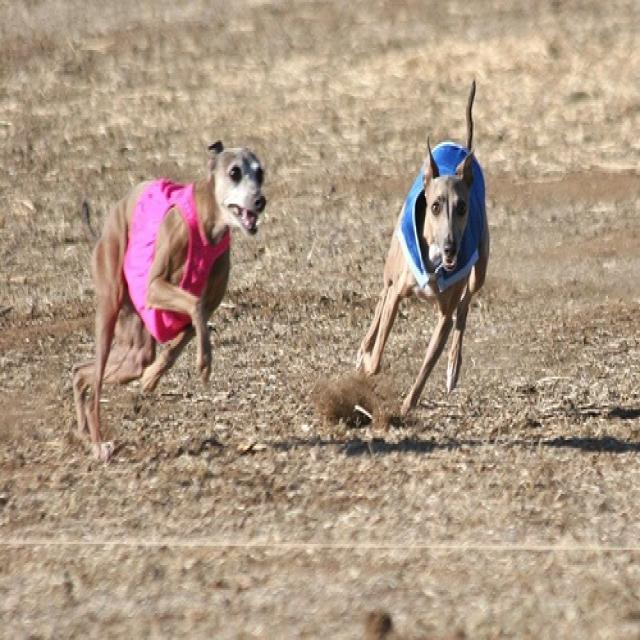dog: (68, 140, 278, 456), (354, 75, 496, 421)
